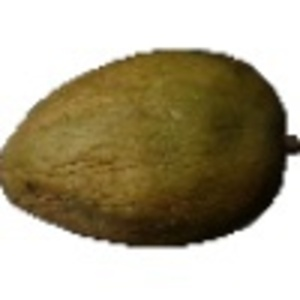mamão: (6, 23, 291, 266)
